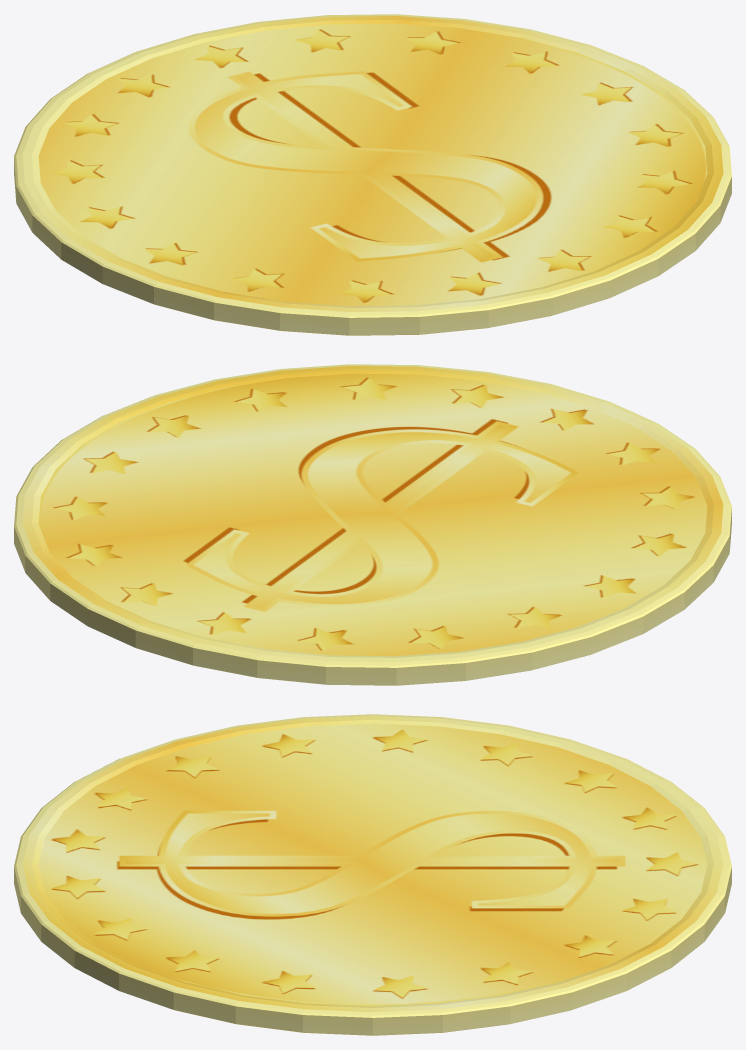
Rendered from coin.fbx.
3 renders of one model, top to bottom at view 1: azimuth 30°, elevation 25°; view 2: azimuth 150°, elevation 25°; view 3: azimuth 270°, elevation 25°, orthographic.
Parts seen in each view (by area): view 1: Cylinder; view 2: Cylinder; view 3: Cylinder.
Part boxes in pixels (bbox=[...]): Cylinder: bbox=[14, 14, 731, 335]; Cylinder: bbox=[14, 364, 731, 685]; Cylinder: bbox=[14, 714, 731, 1035].
Bounding box in the file's own units: 36.34 × 1.24 × 36.34.
Materials: 1 (1 with a texture image).
